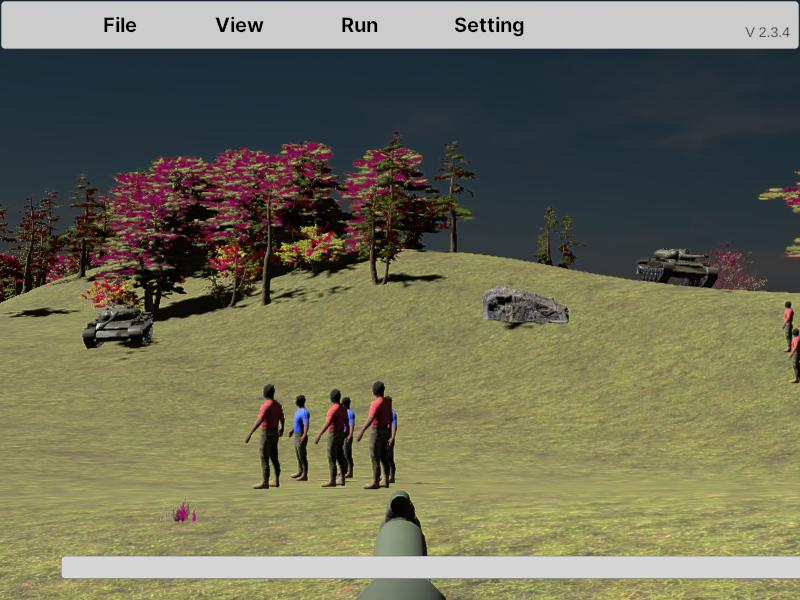Human: (245, 383, 284, 489), (357, 383, 394, 490), (316, 389, 350, 488), (288, 394, 309, 481), (338, 393, 355, 480), (782, 300, 794, 353), (789, 327, 800, 383)
Tank: (636, 247, 718, 288), (82, 303, 153, 350)
